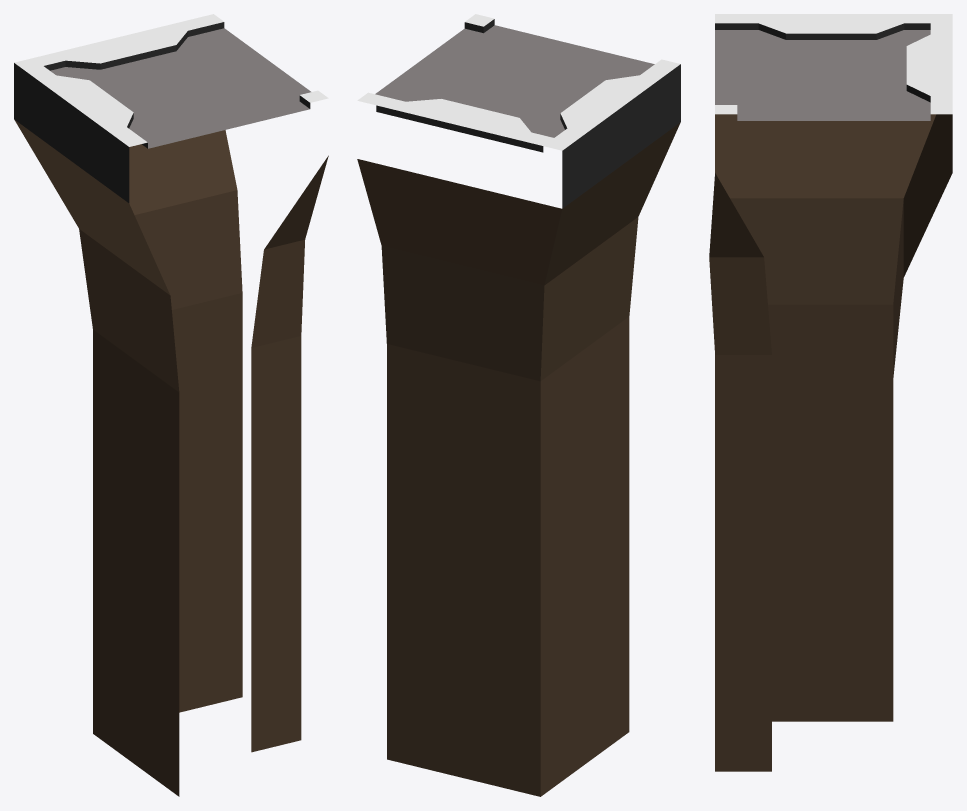
File: road_corner_type_04.fbx
3 renders of one model, left to right at view 1: azimuth 30°, elevation 25°; view 2: azimuth 150°, elevation 25°; view 3: azimuth 270°, elevation 25°, orthographic. The views are drawn at different scales.
Parts seen in each view (by area): view 1: road_corner_type_04; view 2: road_corner_type_04; view 3: road_corner_type_04.
Boxes of the visible parts, box(x1,y1,x2,y2) form: road_corner_type_04: box(14, 14, 328, 796); road_corner_type_04: box(357, 14, 680, 796); road_corner_type_04: box(709, 14, 952, 771).
Bounding box in the file's own units: 334 × 1058 × 342.
Materials: 1 (1 with a texture image).
